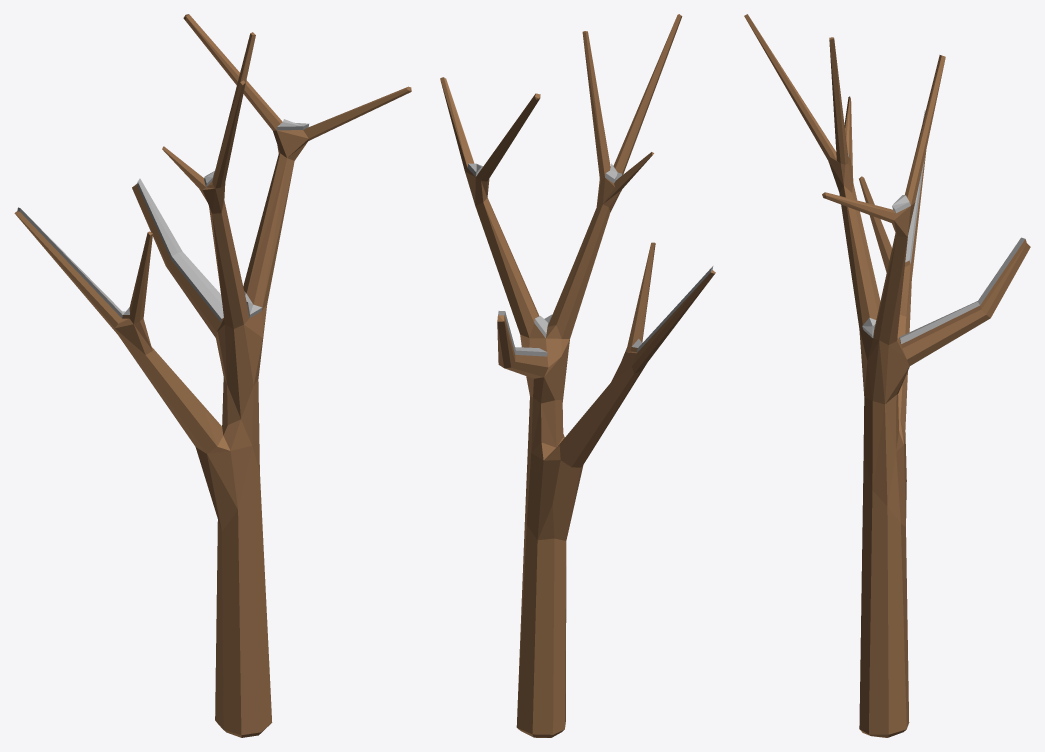
File: Tree_4 Winter.fbx
3 renders of one model, left to right at view 1: azimuth 30°, elevation 25°; view 2: azimuth 150°, elevation 25°; view 3: azimuth 270°, elevation 25°, orthographic. The views are drawn at different scales.
Parts seen in each view (by area): view 1: Tree4Winter_mesh; view 2: Tree4Winter_mesh; view 3: Tree4Winter_mesh.
Boxes of the visible parts, left/top/right/bottom form: Tree4Winter_mesh: left=14, top=14, right=411, bottom=737; Tree4Winter_mesh: left=440, top=14, right=715, bottom=737; Tree4Winter_mesh: left=744, top=14, right=1030, bottom=737.
Size of the model in its own units: 334 by 672 by 254.
